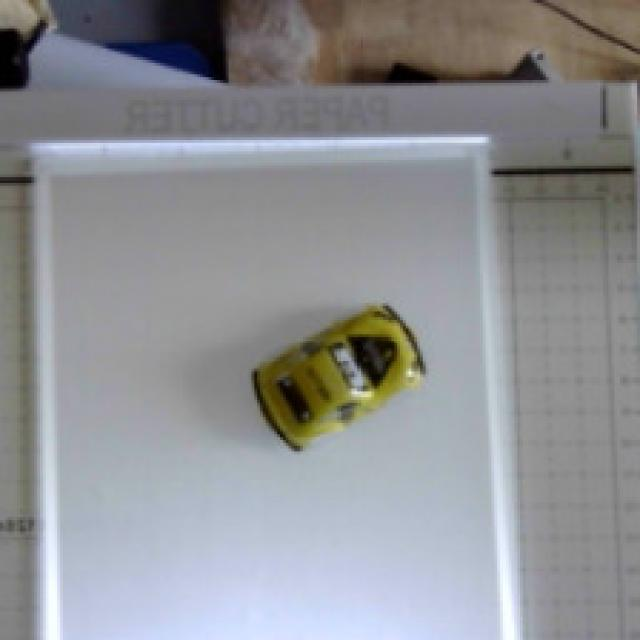Yellow Car: (189, 261, 484, 476)
